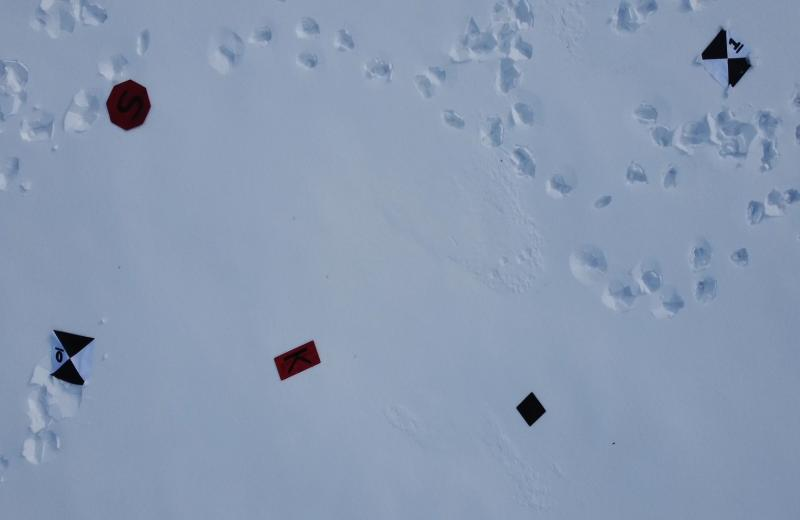Octagon: (105, 78, 153, 134)
Rectangle: (273, 340, 321, 382)
Square: (516, 392, 547, 428)
